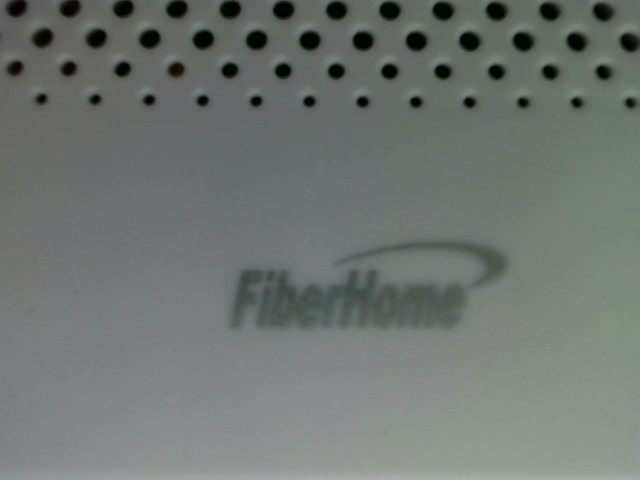AI_FiberHome: (218, 229, 525, 348)
